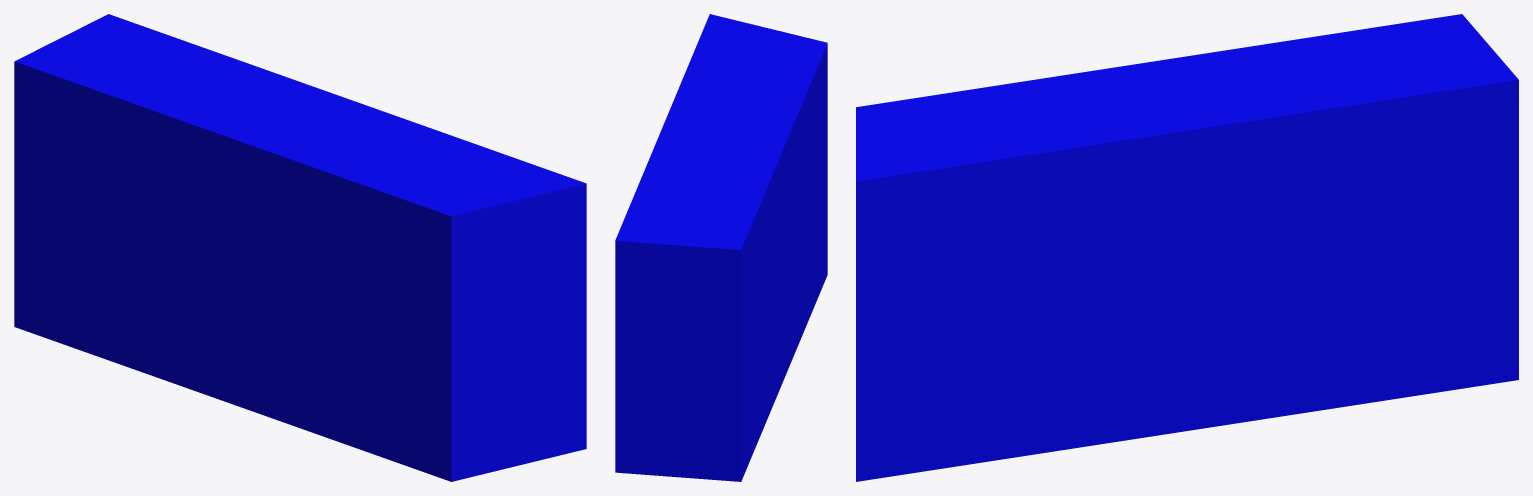
File: COLLISION_CASTOR.dae
3 views of the same model, side by side, from view 1: azimuth 30°, elevation 25°; view 2: azimuth 150°, elevation 25°; view 3: azimuth 270°, elevation 25° (orthographic). The views are drawn at different scales.
Parts seen in each view (by area): view 1: COLLISION_CASTOR; view 2: COLLISION_CASTOR; view 3: COLLISION_CASTOR.
Boxes of the visible parts, x1=… form: COLLISION_CASTOR: x1=14, y1=14, x2=586, y2=481; COLLISION_CASTOR: x1=615, y1=14, x2=827, y2=481; COLLISION_CASTOR: x1=856, y1=14, x2=1518, y2=481.
Size of the model in its own units: 0.2876 by 0.24 by 0.4803.
